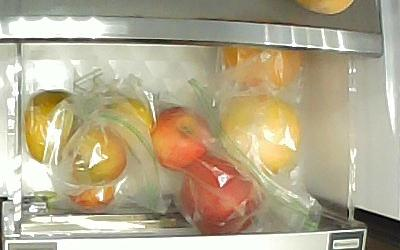apple_vinyl: (180, 156, 264, 235), (152, 107, 214, 172)
grapefruit_vinyl: (219, 93, 302, 176), (220, 47, 304, 92)
persimmon_vinyl: (25, 89, 83, 165)
prune_vinyl: (69, 127, 126, 185), (65, 184, 116, 210)
